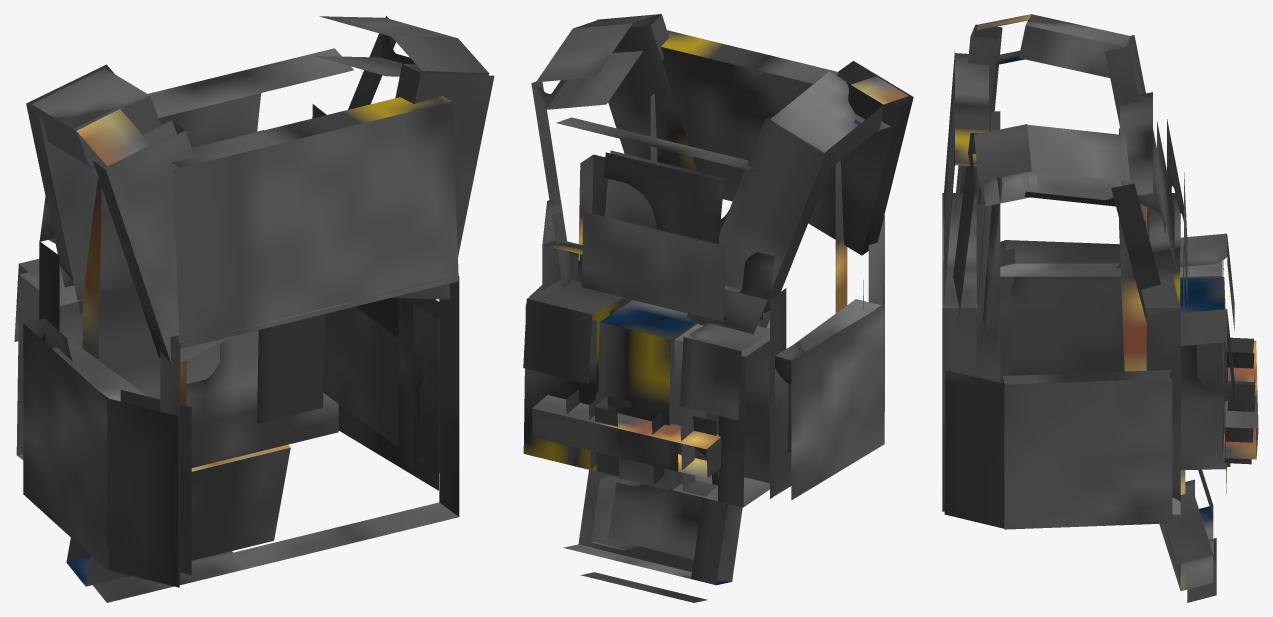
The model's file is civilian.obj.
3 views of the same model, side by side, from view 1: azimuth 30°, elevation 25°; view 2: azimuth 150°, elevation 25°; view 3: azimuth 270°, elevation 25° (orthographic). The views are drawn at different scales.
Parts seen in each view (by area): view 1: plane; view 2: plane; view 3: plane.
Part boxes in pixels (x1,y1,x2,y2): plane: [14, 16, 494, 602]; plane: [523, 14, 913, 602]; plane: [942, 14, 1258, 602].
Bounding box in the file's own units: 0.6959 × 1.01 × 0.5806.
